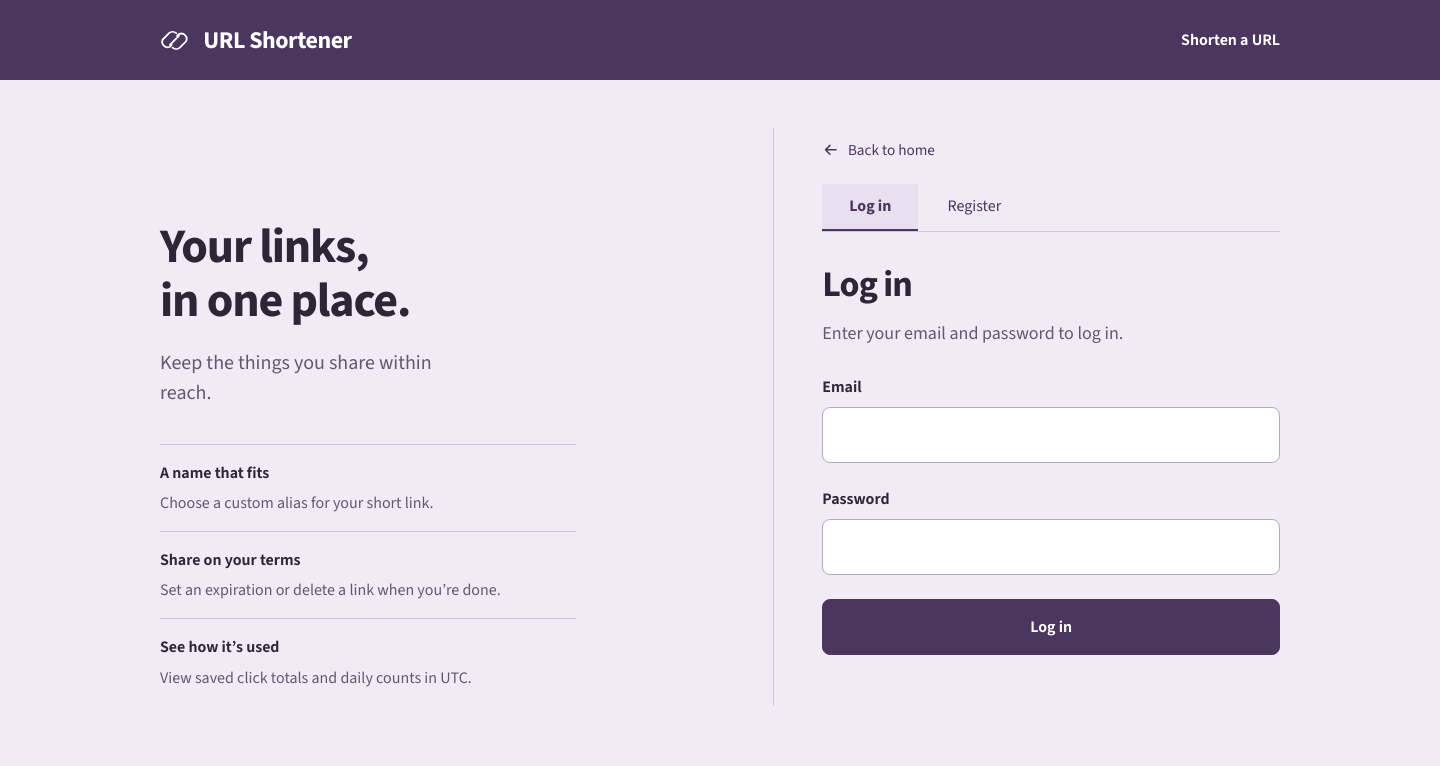
accede e naviga alla dashboard personale
Type "USER@EXAMPLE.COM" into the field labelled "Email" at (1051, 435), box x1=822 y1=407 x2=1280 y2=463
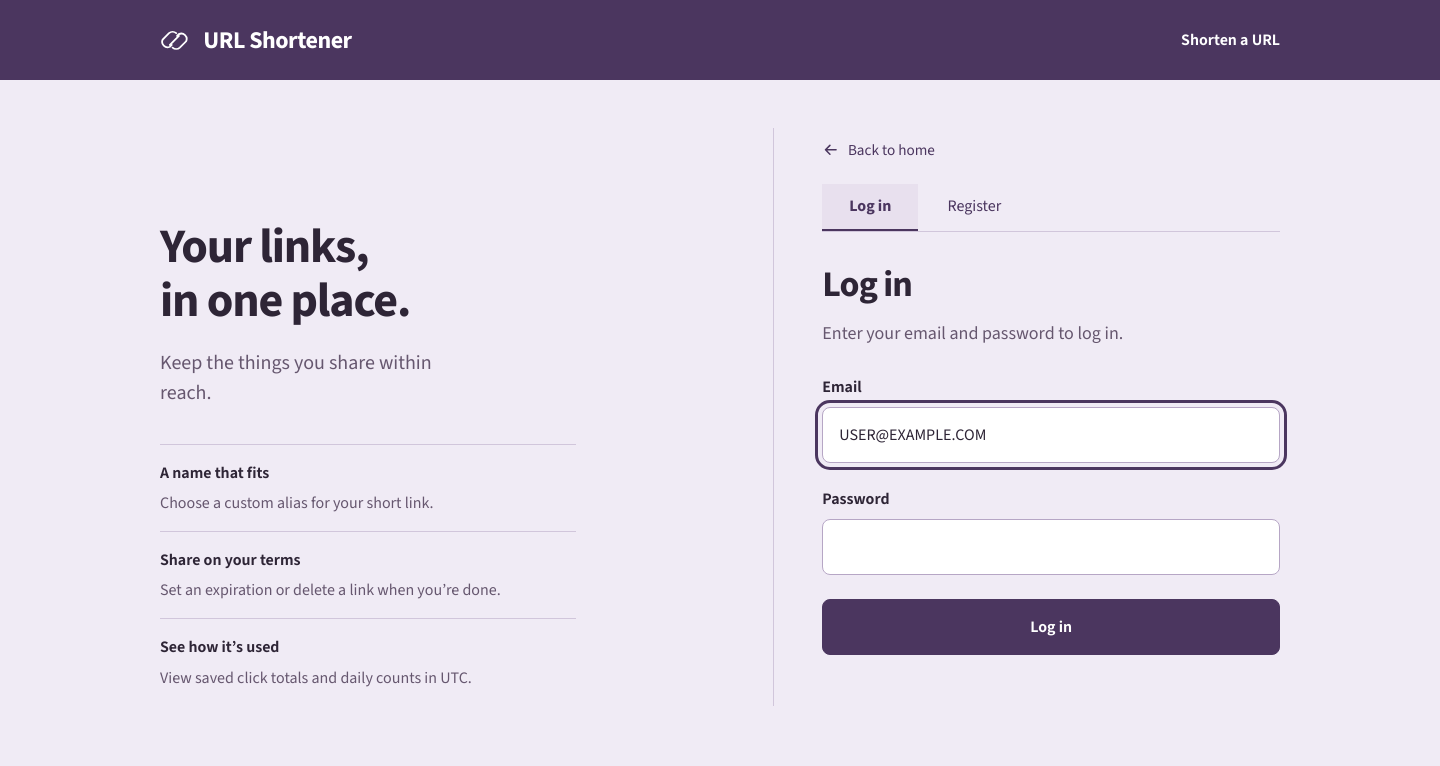
Type "una password lunga" into the password field labelled "Password" at (1051, 547), box x1=822 y1=519 x2=1280 y2=575
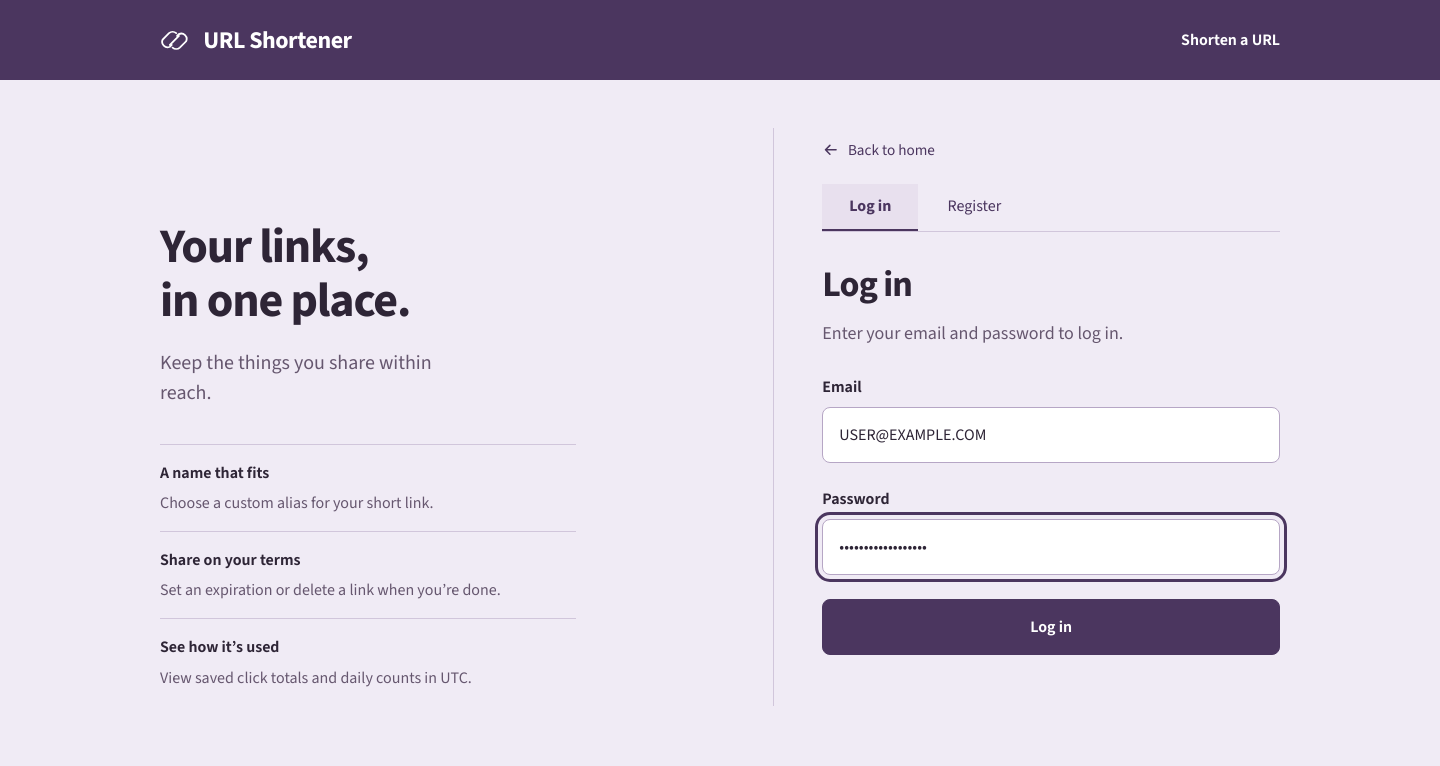
Click the button "Log in" at (1051, 627), box x1=822 y1=599 x2=1280 y2=655
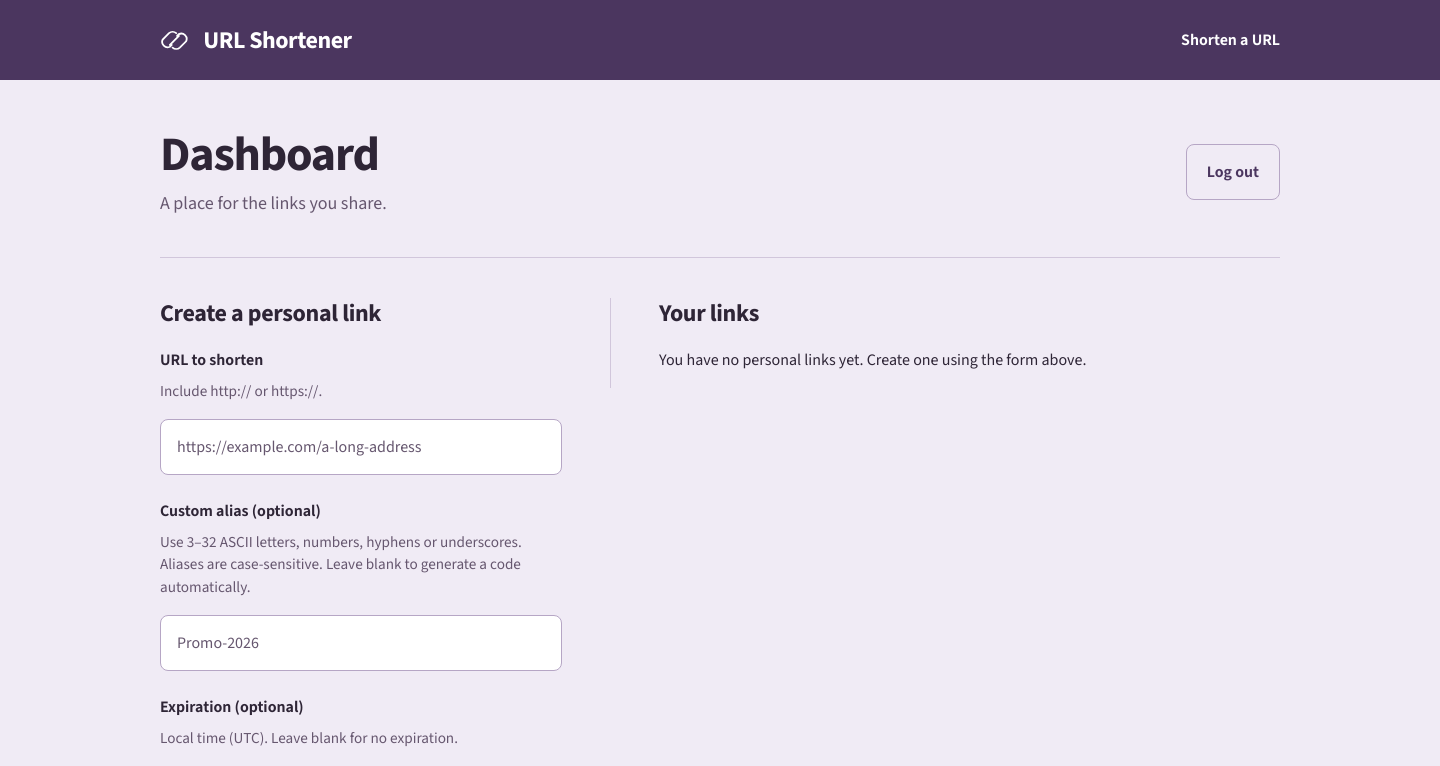
Expected: the text "You have no personal links yet. Create one using the form above." is shown, x1=659 y1=349 x2=1086 y2=370
Expected: the field labelled "Custom alias (optional)" is shown, x1=160 y1=615 x2=562 y2=671
Expected: the heading "Dashboard" is shown, x1=160 y1=128 x2=387 y2=182
